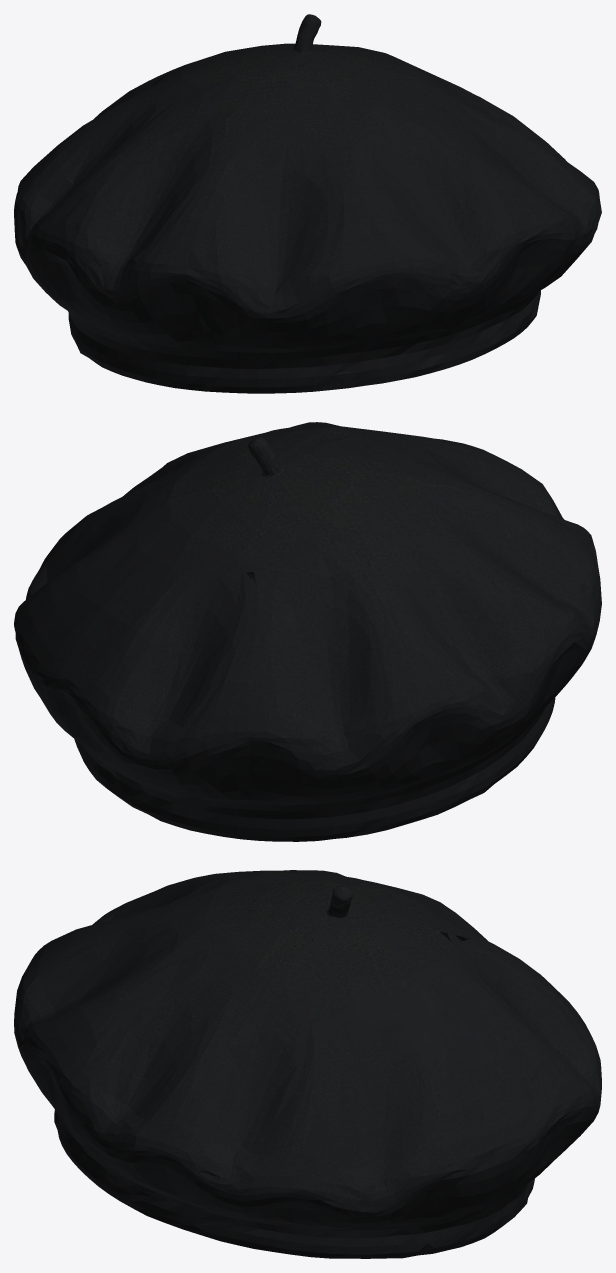
File: ewm_beret.glb
3 renders of one model, top to bottom at view 1: azimuth 30°, elevation 25°; view 2: azimuth 150°, elevation 25°; view 3: azimuth 270°, elevation 25°, orthographic. The views are drawn at different scales.
Parts seen in each view (by area): view 1: ewm_beret; view 2: ewm_beret; view 3: ewm_beret.
Boxes of the visible parts, x1,y1,x2,y2 form: ewm_beret: (14,14,601,393); ewm_beret: (14,422,601,841); ewm_beret: (14,870,601,1258).
Size of the model in its own units: 0.1955 by 0.1147 by 0.1944.
Materials: 1 (1 with a texture image).
